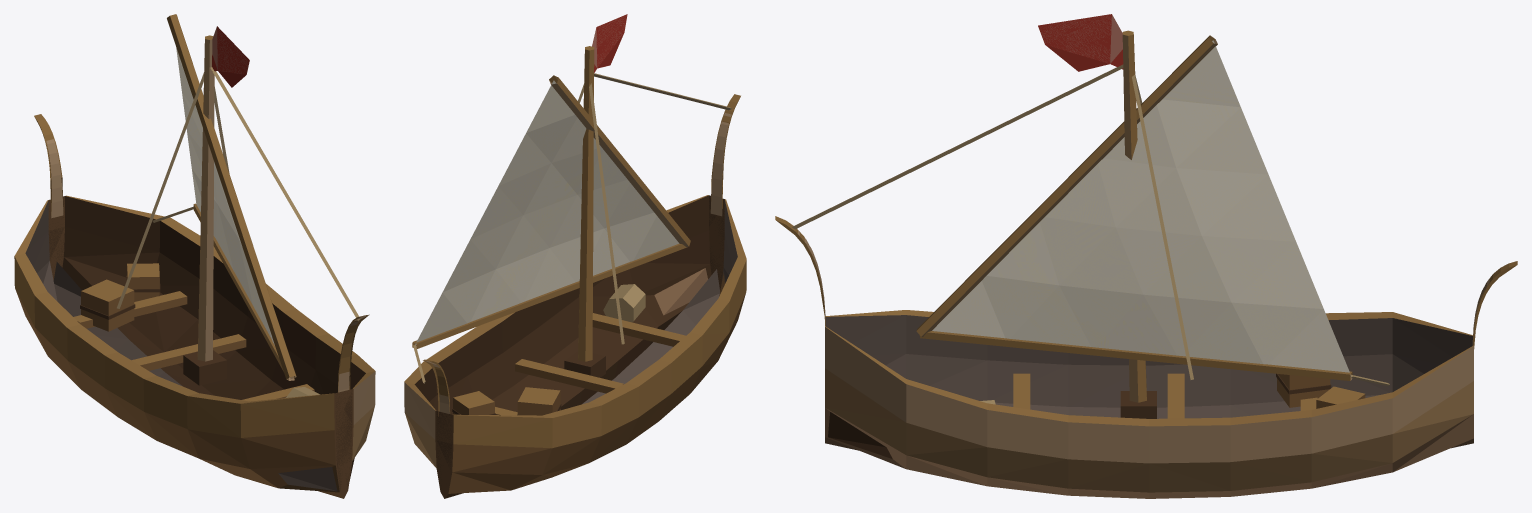
The model's file is boat_sail_c.glb.
3 renders of one model, left to right at view 1: azimuth 30°, elevation 25°; view 2: azimuth 150°, elevation 25°; view 3: azimuth 270°, elevation 25°, orthographic. The views are drawn at different scales.
Parts seen in each view (by area): view 1: boat_sail_c; view 2: boat_sail_c; view 3: boat_sail_c.
Boxes of the visible parts, x1,y1,x2,y2 form: boat_sail_c: (14,14,375,498); boat_sail_c: (404,14,746,498); boat_sail_c: (775,14,1517,498).
Size of the model in its own units: 2.39 by 4.87 by 6.98.
